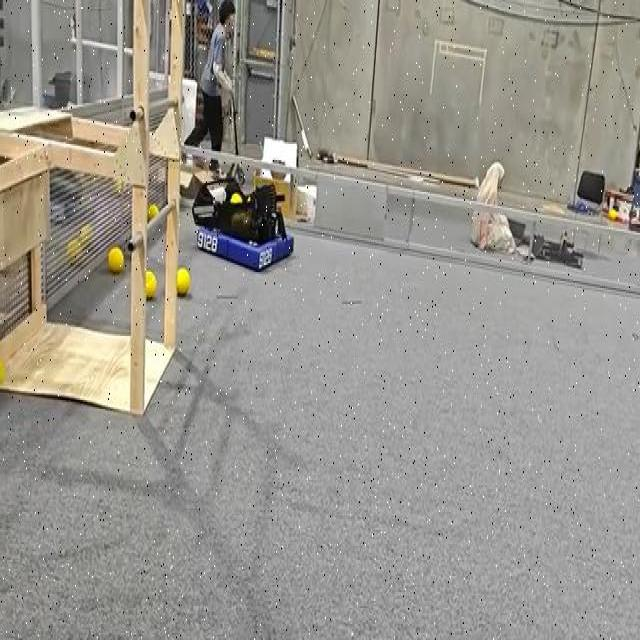Fuel: (107, 247, 124, 274), (176, 267, 191, 295), (108, 247, 124, 273), (176, 267, 189, 295), (145, 270, 156, 299), (67, 238, 81, 260), (80, 224, 92, 246), (79, 224, 91, 244), (147, 204, 158, 220), (230, 192, 242, 203)
